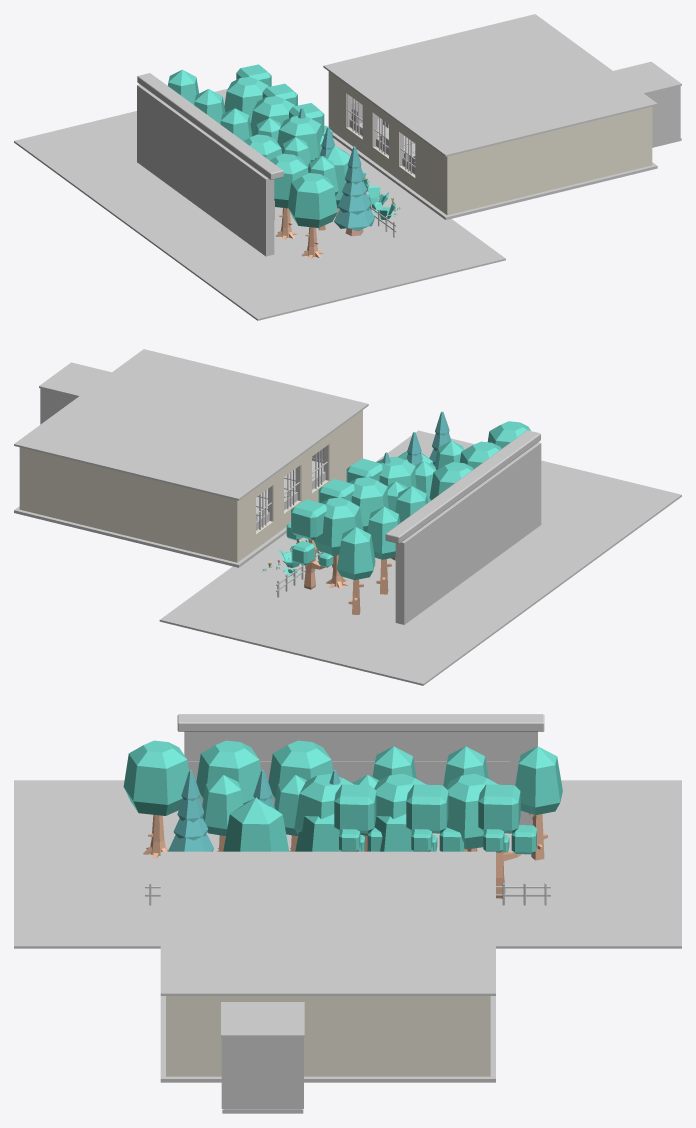
File: cafeteria.glb
3 renders of one model, top to bottom at view 1: azimuth 30°, elevation 25°; view 2: azimuth 150°, elevation 25°; view 3: azimuth 270°, elevation 25°, orthographic. The views are drawn at different scales.
Parts seen in each view (by area): view 1: grass, ceiling, wall, k_leafsGreen, house_far, roof_far, k_leafsDark, floor_tile, wall_next, window_frame, k_woodBark, k_grass; view 2: grass, ceiling, wall, k_leafsGreen, house_far, roof_far, floor_tile, k_woodBark, window_frame, k_leafsDark, wall_next; view 3: ceiling, grass, k_leafsGreen, wall, house_far, roof_far, wall_next, floor_tile, k_leafsDark, window_far, k_woodBark, fence.
Part boxes in pixels (x1=…): grass: x1=14, y1=88, x2=505, y2=320; ceiling: x1=323, y1=14, x2=681, y2=156; wall: x1=328, y1=71, x2=652, y2=215; k_leafsGreen: x1=168, y1=64, x2=350, y2=227; house_far: x1=137, y1=84, x2=274, y2=256; roof_far: x1=137, y1=73, x2=283, y2=179; k_leafsDark: x1=298, y1=108, x2=374, y2=231; floor_tile: x1=328, y1=118, x2=657, y2=219; wall_next: x1=646, y1=86, x2=680, y2=145; window_frame: x1=347, y1=94, x2=415, y2=173; k_woodBark: x1=275, y1=208, x2=339, y2=259; k_grass: x1=362, y1=171, x2=400, y2=220; grass: x1=159, y1=430, x2=681, y2=685; ceiling: x1=14, y1=349, x2=368, y2=500; wall: x1=19, y1=410, x2=362, y2=562; k_leafsGreen: x1=286, y1=421, x2=530, y2=580; house_far: x1=395, y1=442, x2=541, y2=624; roof_far: x1=385, y1=430, x2=540, y2=543; floor_tile: x1=14, y1=460, x2=323, y2=567; k_woodBark: x1=297, y1=539, x2=395, y2=614; window_frame: x1=256, y1=445, x2=328, y2=529; k_leafsDark: x1=382, y1=411, x2=451, y2=465; wall_next: x1=40, y1=388, x2=77, y2=424; ceiling: x1=160, y1=851, x2=495, y2=1037; grass: x1=14, y1=780, x2=681, y2=948; k_leafsGreen: x1=123, y1=740, x2=562, y2=854; wall: x1=166, y1=996, x2=490, y2=1076; house_far: x1=184, y1=731, x2=537, y2=832; roof_far: x1=177, y1=714, x2=544, y2=731; wall_next: x1=221, y1=1037, x2=303, y2=1109; floor_tile: x1=160, y1=996, x2=495, y2=1082; k_leafsDark: x1=168, y1=770, x2=340, y2=851; window_far: x1=187, y1=761, x2=510, y2=785; k_woodBark: x1=143, y1=813, x2=547, y2=898; fence: x1=145, y1=883, x2=550, y2=905.
Size of the model in its own units: 60.4 by 10.1 by 51.
